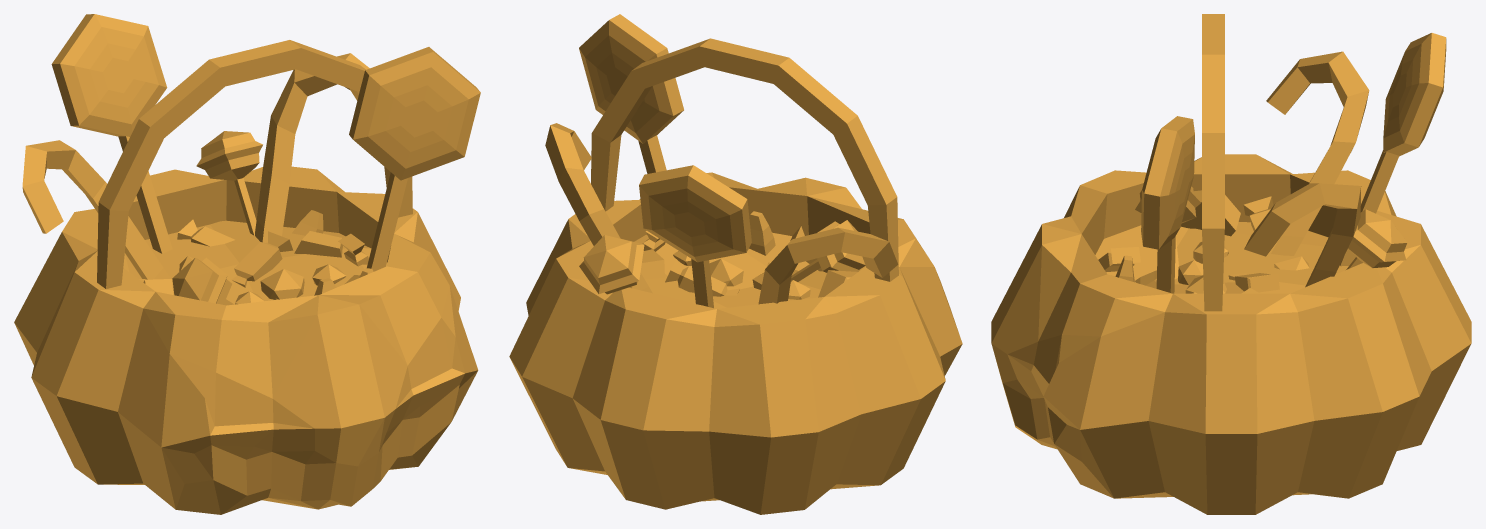
Rendered from pumpkin-candy.fbx.
3 views of the same model, side by side, from view 1: azimuth 30°, elevation 25°; view 2: azimuth 150°, elevation 25°; view 3: azimuth 270°, elevation 25° (orthographic). The views are drawn at different scales.
Visible parts, largest first — view 1: pumpkin-candy; view 2: pumpkin-candy; view 3: pumpkin-candy.
Boxes of the visible parts, box(x1,y1,x2,y2) form: pumpkin-candy: box(14, 14, 480, 514); pumpkin-candy: box(509, 14, 962, 514); pumpkin-candy: box(991, 14, 1471, 514).
Size of the model in its own units: 0.3197 by 0.3135 by 0.3197.
